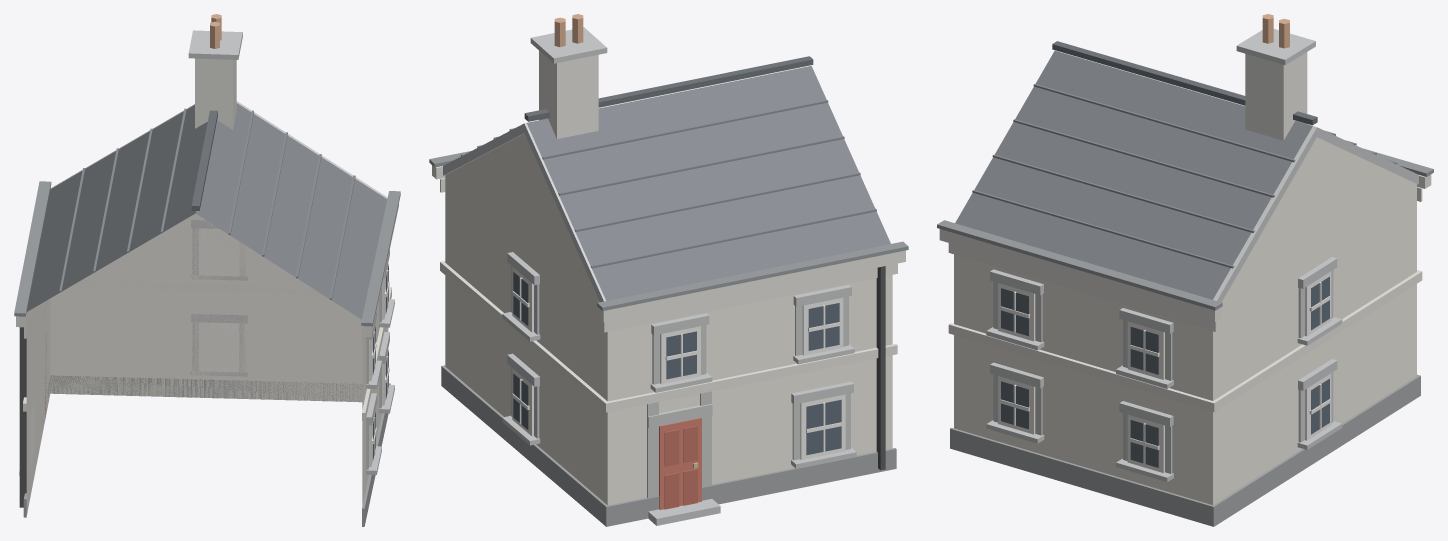
3 views of the same model, side by side, from view 1: azimuth 30°, elevation 25°; view 2: azimuth 150°, elevation 25°; view 3: azimuth 270°, elevation 25° (orthographic). The views are drawn at different scales.
Parts seen in each view (by area): view 1: harl_cream, slate, stone_band, plinth, frame, lead, slate_lt, string, chim_render, pipe, slate_dk; view 2: harl_cream, slate, stone_band, string, plinth, frame, chim_render, slate_lt, lead, slate_dk, door_red_p, pipe (+7 smaller); view 3: harl_cream, slate, stone_band, string, plinth, frame, chim_render, slate_lt, lead, slate_dk, window_glass_006, window_glass_007 (+5 smaller).
Part boxes in pixels (box(x1,y1,x2,y2)): harl_cream: box(26, 213, 388, 515); slate: box(27, 103, 387, 319); stone_band: box(19, 30, 394, 475); plinth: box(23, 375, 390, 526); frame: box(30, 228, 389, 468); lead: box(14, 181, 400, 326); slate_lt: box(59, 108, 355, 299); string: box(16, 187, 398, 421); chim_render: box(195, 58, 236, 129); pipe: box(19, 327, 26, 507); slate_dk: box(191, 110, 217, 210); harl_cream: box(445, 134, 892, 505); slate: box(526, 66, 890, 300); stone_band: box(443, 27, 856, 525); string: box(432, 165, 905, 412); plinth: box(441, 365, 896, 526); frame: box(512, 266, 845, 459); chim_render: box(539, 51, 598, 138); slate_lt: box(461, 100, 876, 268); lead: box(429, 151, 908, 310); slate_dk: box(524, 56, 813, 121); door_red_p: box(664, 425, 697, 509); pipe: box(876, 266, 885, 470); harl_cream: box(954, 137, 1416, 504); slate: box(955, 50, 1312, 299); stone_band: box(986, 29, 1418, 481); string: box(939, 174, 1431, 411); plinth: box(950, 374, 1420, 526); frame: box(998, 271, 1331, 472); chim_render: box(1245, 52, 1307, 140); slate_lt: box(972, 84, 1397, 268); lead: box(937, 148, 1433, 310); slate_dk: box(1052, 41, 1317, 125); window_glass_006: box(1130, 420, 1158, 467); window_glass_007: box(1130, 327, 1158, 374).
Size of the model in its own units: 10.63 by 9.7 by 10.15.
